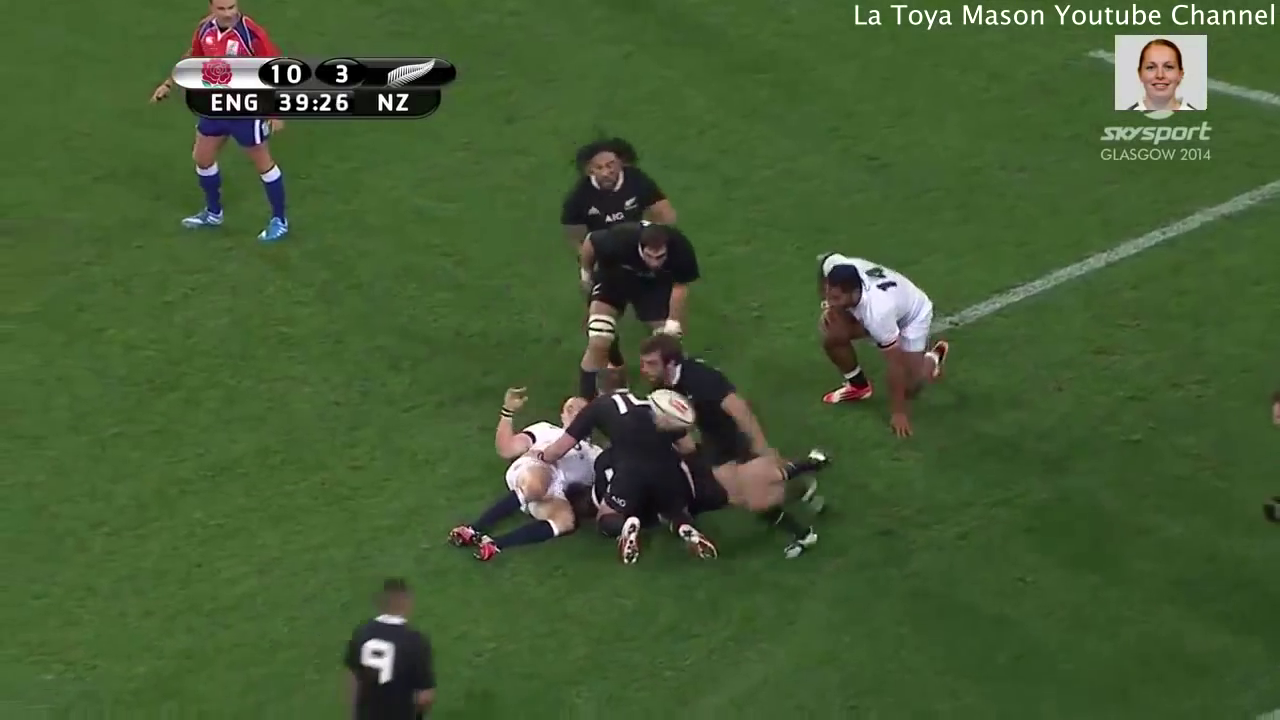ball: (636, 380, 704, 440)
player: (609, 323, 821, 570), (137, 1, 300, 252), (535, 361, 723, 572), (799, 233, 973, 444), (443, 383, 606, 574), (557, 203, 713, 392), (529, 122, 687, 277), (325, 567, 459, 720)
